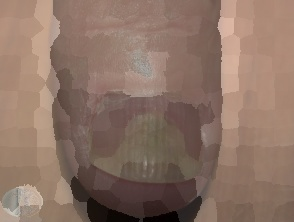Nail_psoriasis: (55, 66, 219, 193)
